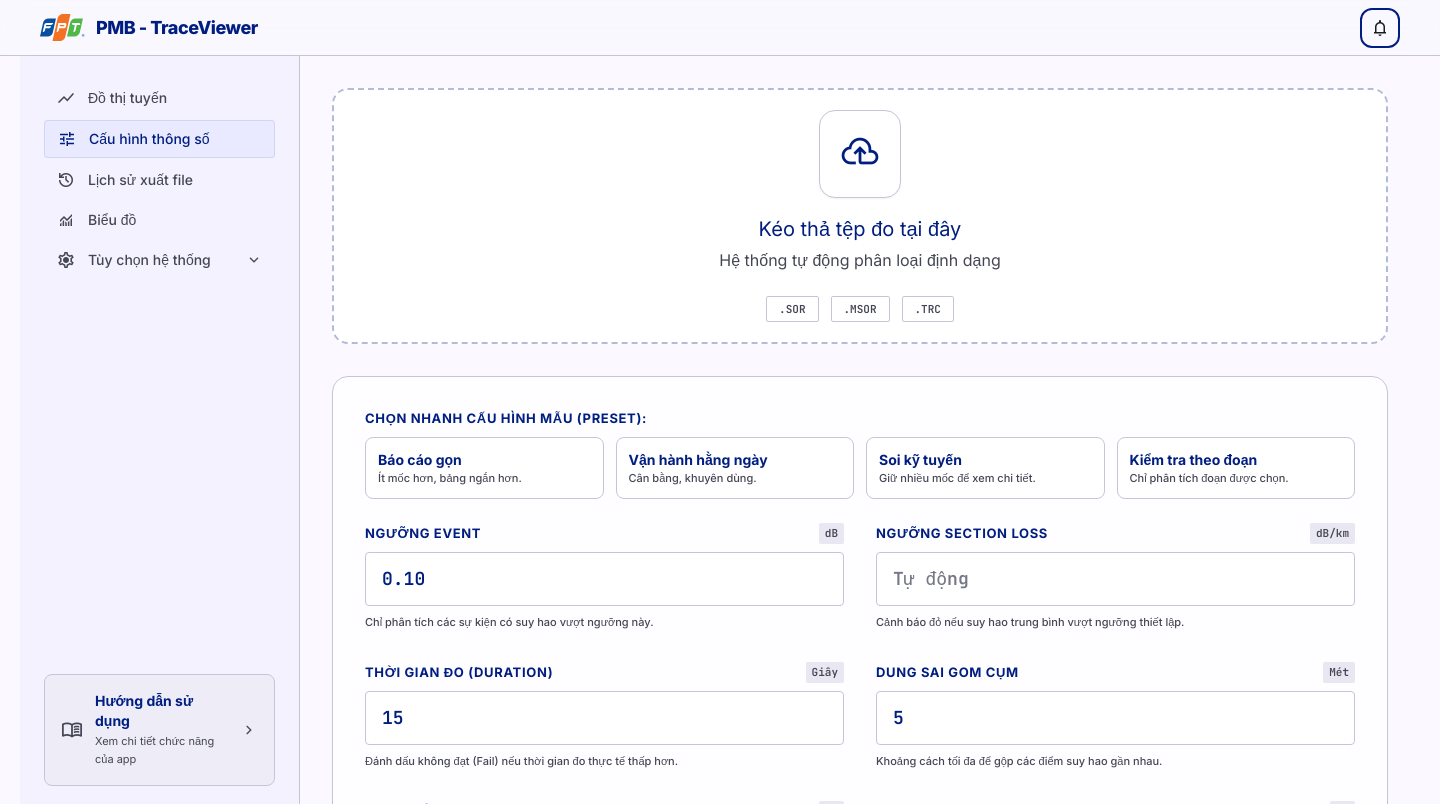
does not show estimated route figures when dashboard data cannot be loaded
Step 1. Click the button "Biểu đồ" → (160, 220), box [44,202,275,238]
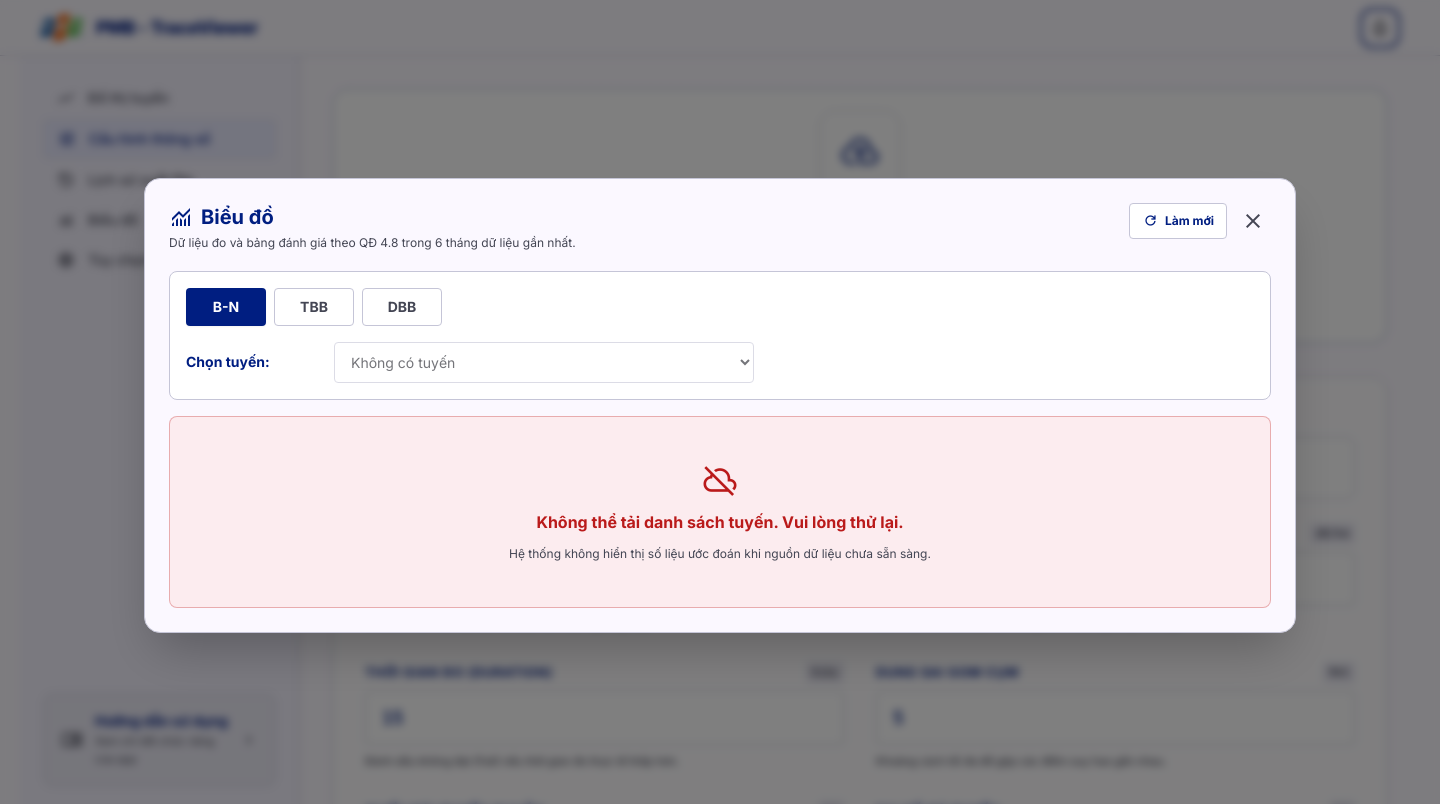
Expected: the text "Không thể tải danh sách tuyến. Vui lòng thử lại." is shown, [536,510,904,534]
Expected: the text "không hiển thị số liệu ước đoán" is shown, [509,546,931,560]
